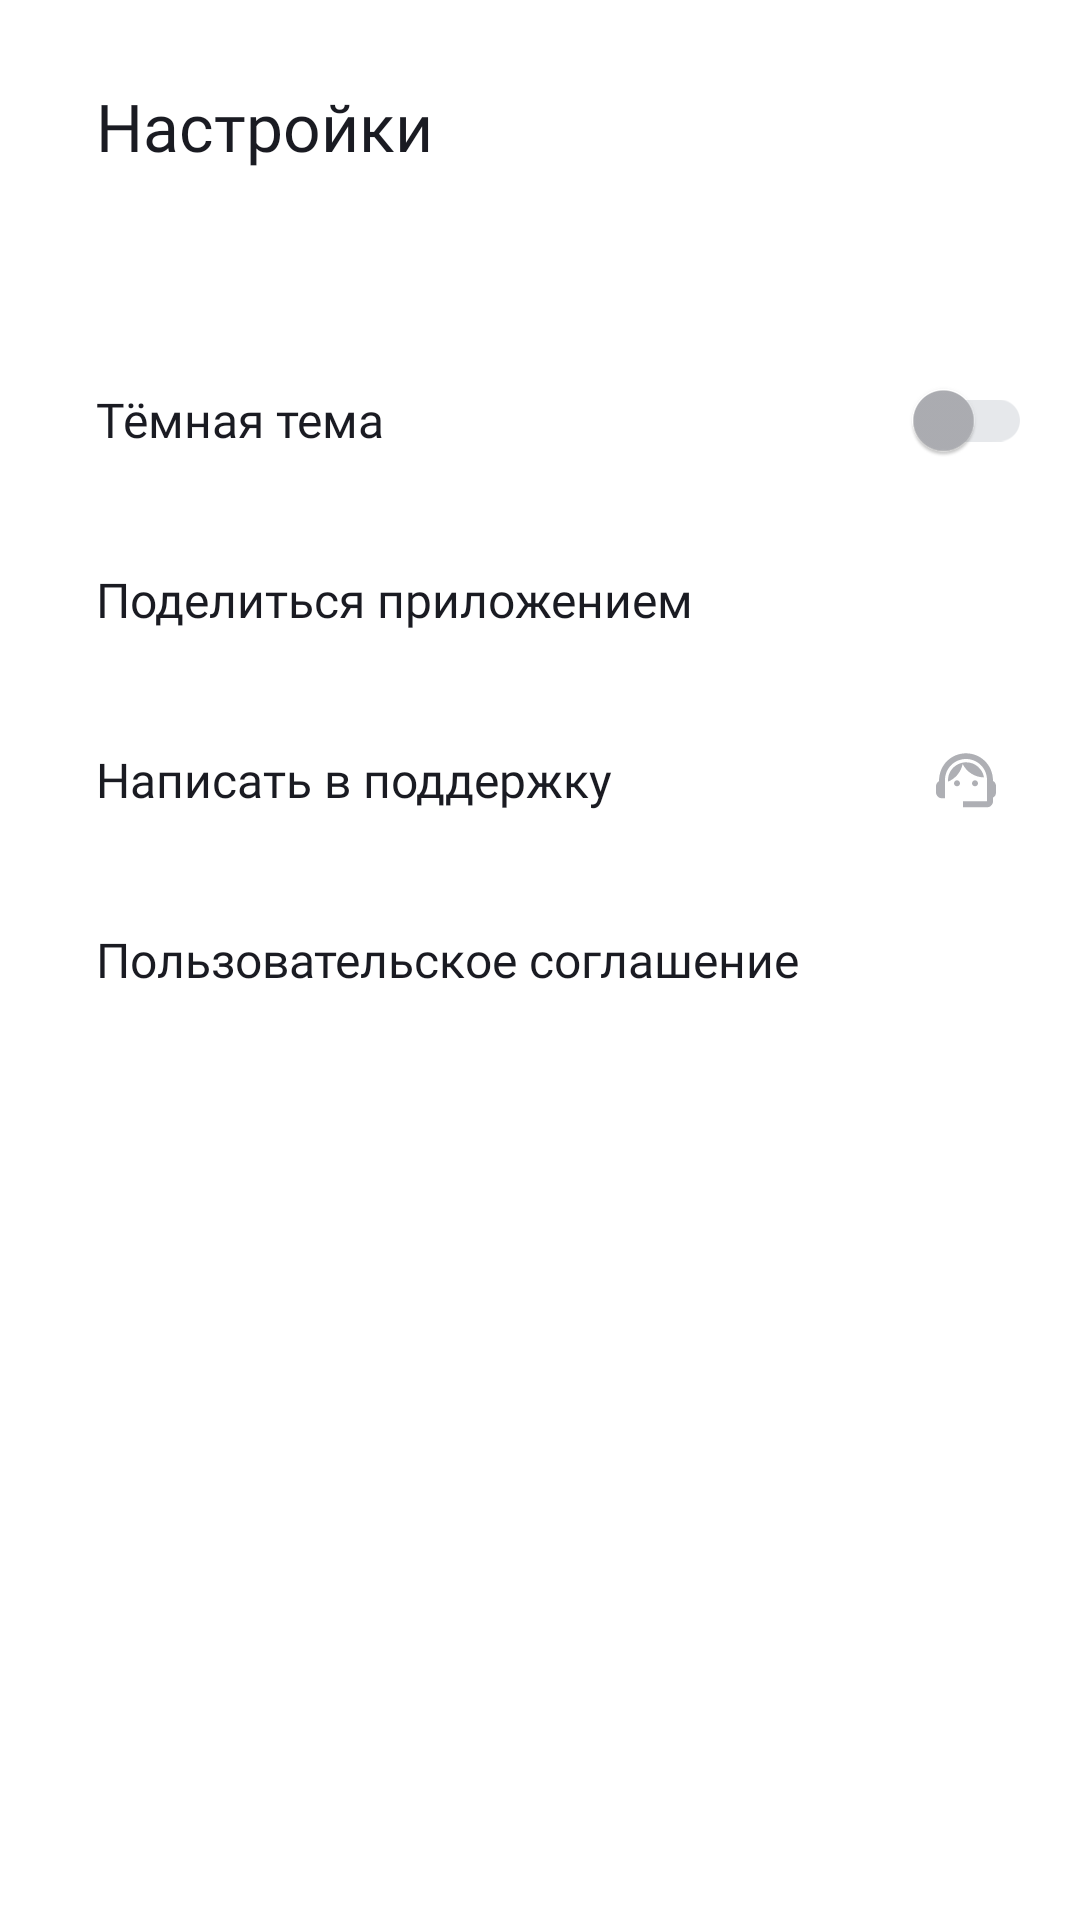

Where to tap for icons on this 1080px×1920px app screen, as (x,y):
support: (966,780)
